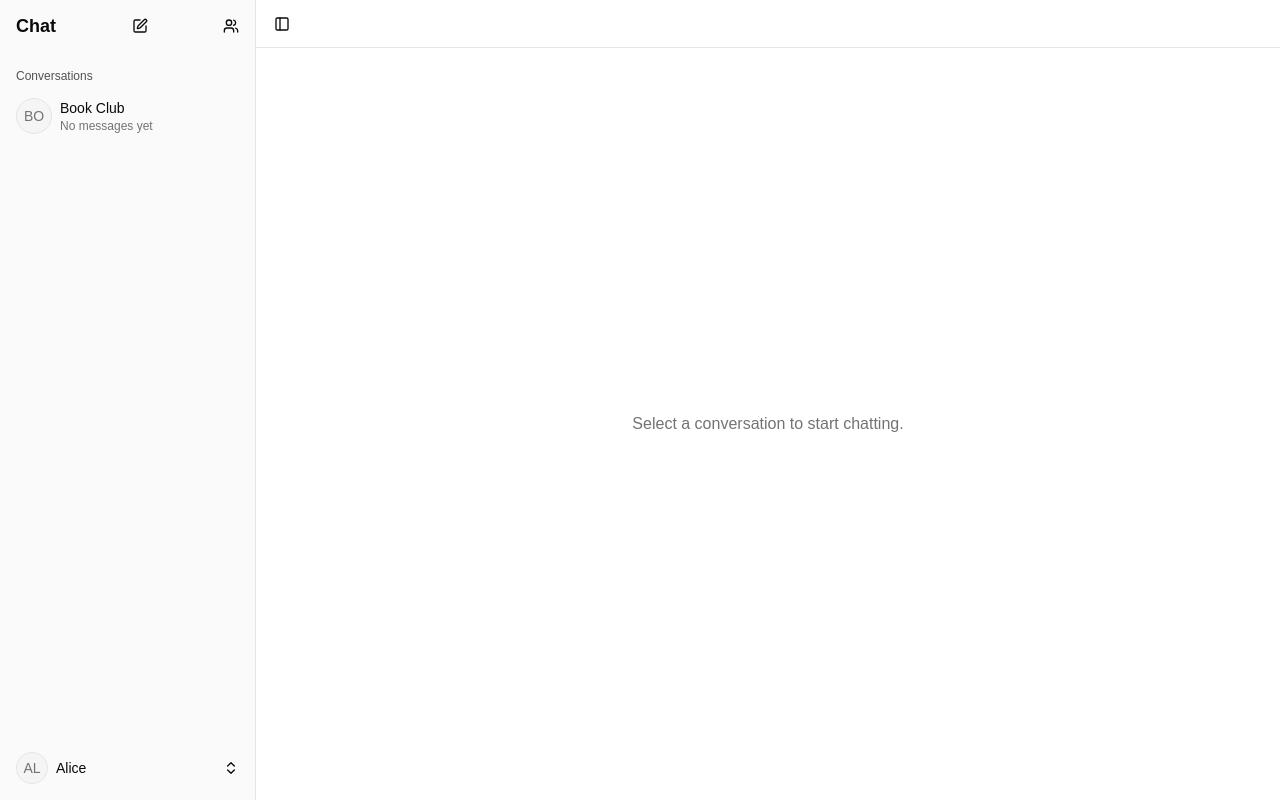
Test: Group details › lists the Members and marks the Owner
Click the button "BO Book Club No messages yet" at (128, 116), box [8,92,247,140]
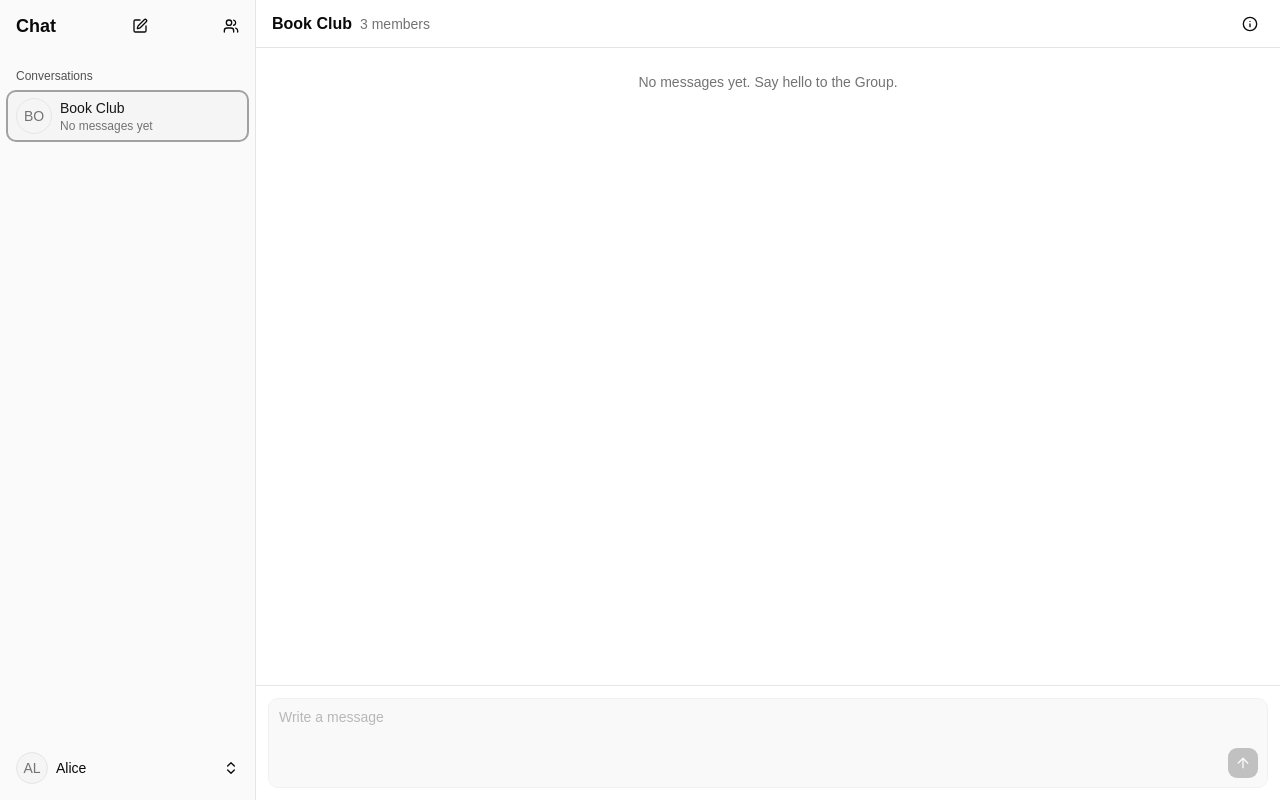
Click the button named "group details" at (1250, 24), box [1236,10,1264,38]
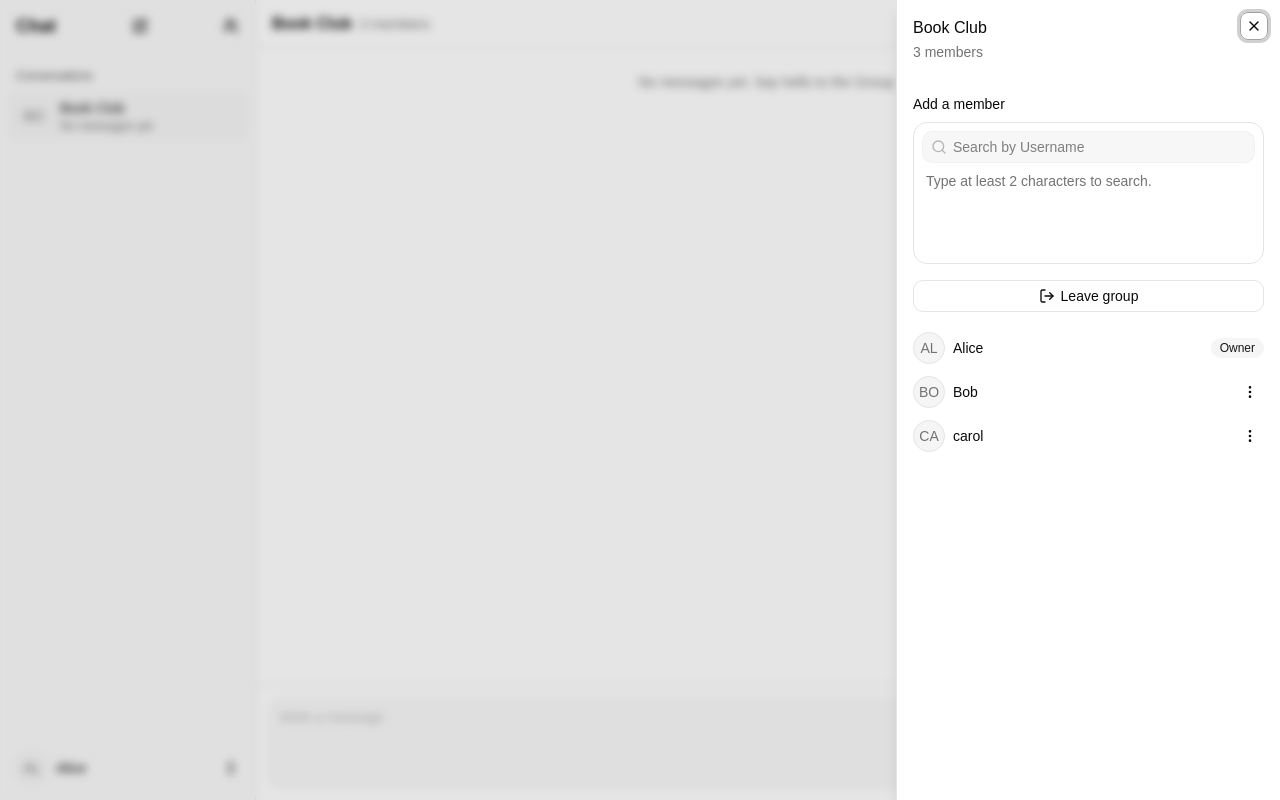
expect the icon "Owner" is shown: met, box [1211,338,1264,358]
